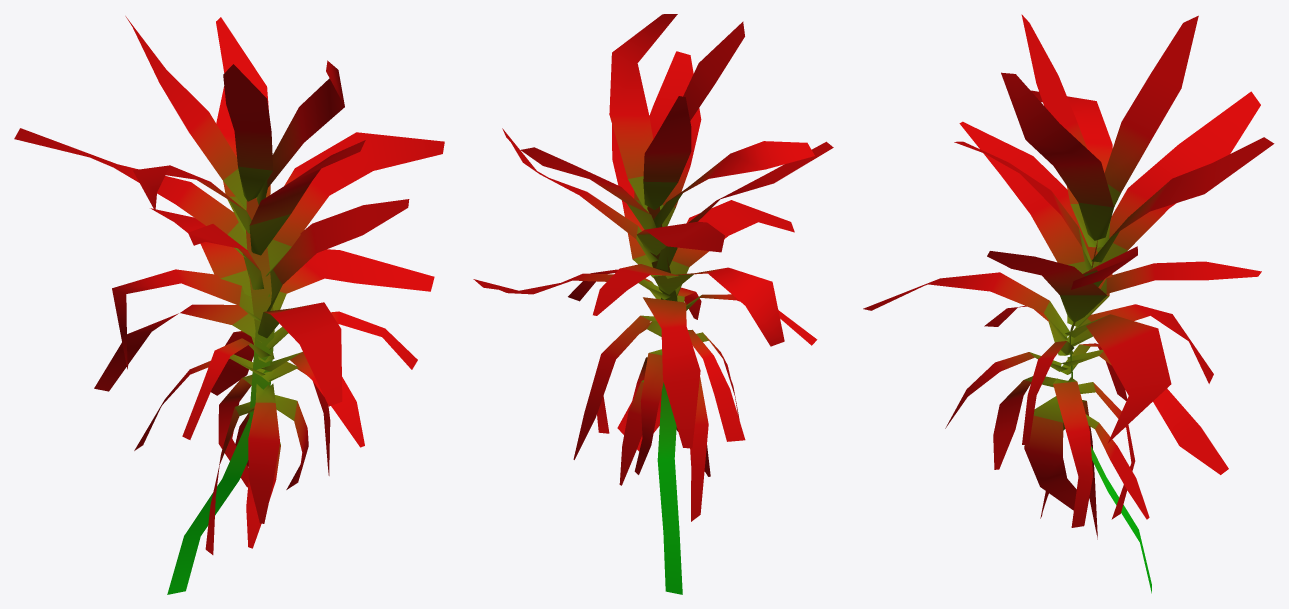
The model's file is Dragon Tree_LOD2_Var3_sikoN.fbx.
3 views of the same model, side by side, from view 1: azimuth 30°, elevation 25°; view 2: azimuth 150°, elevation 25°; view 3: azimuth 270°, elevation 25° (orthographic). The views are drawn at different scales.
Parts seen in each view (by area): view 1: _e471_Var3_LOD2; view 2: _e471_Var3_LOD2; view 3: _e471_Var3_LOD2.
Part boxes in pixels (x1,y1,x2,y2): _e471_Var3_LOD2: [14, 16, 444, 594]; _e471_Var3_LOD2: [473, 14, 833, 594]; _e471_Var3_LOD2: [863, 14, 1274, 593].
Bounding box in the file's own units: 42.29 × 67.72 × 44.21.
